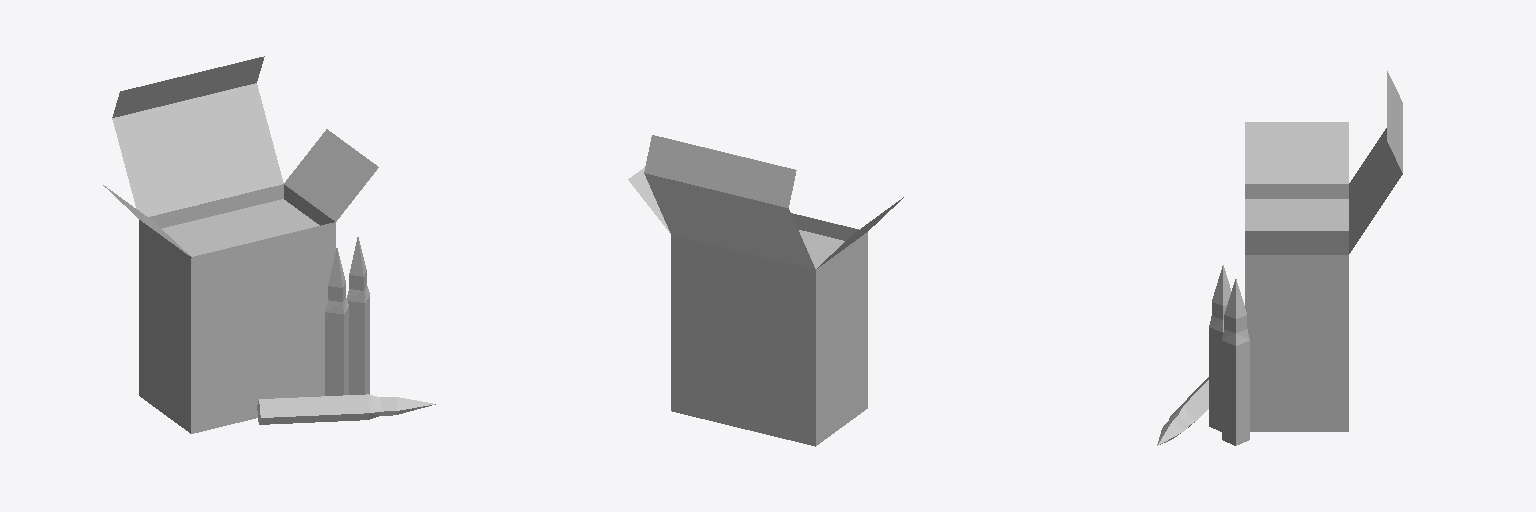
Rendered from Auto_Ammo_240.obj.
The picture shows the model from 3 angles: view 1: azimuth 30°, elevation 25°; view 2: azimuth 150°, elevation 25°; view 3: azimuth 270°, elevation 25°; orthographic projection.
Visible parts, largest first — view 1: Auto_Ammo_Box; view 2: Auto_Ammo_Box; view 3: Auto_Ammo_Box.
Part boxes in pixels (x1,y1,x2,y2): Auto_Ammo_Box: (103,56,435,433); Auto_Ammo_Box: (628,135,903,446); Auto_Ammo_Box: (1157,71,1402,445).
Size of the model in its own units: 0.4066 by 0.4728 by 0.3634.